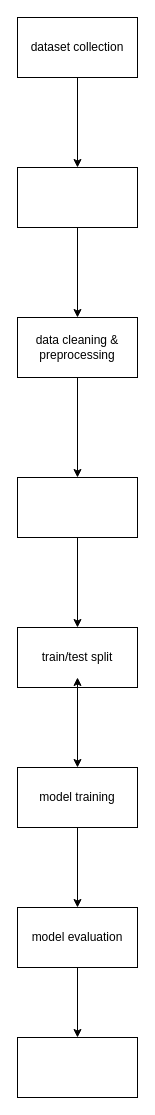
This 155x1115 diagram has some shape labels left out. Each missing label, with the box of its shape:
data loading (pandas): (16, 166, 138, 228)
feature selection: (16, 476, 138, 538)
result: (16, 1036, 138, 1098)
